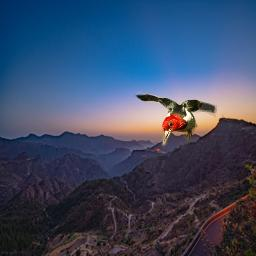Woodpecker: (131, 89, 217, 148)
